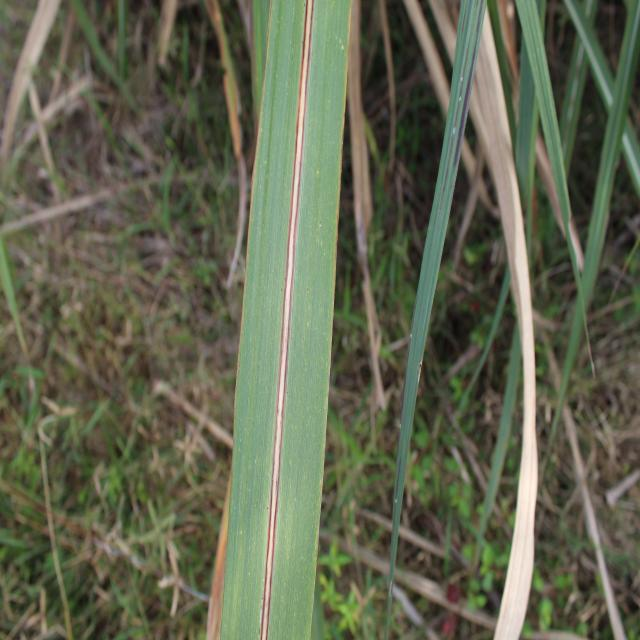Sugarcane: (218, 0, 352, 640)
